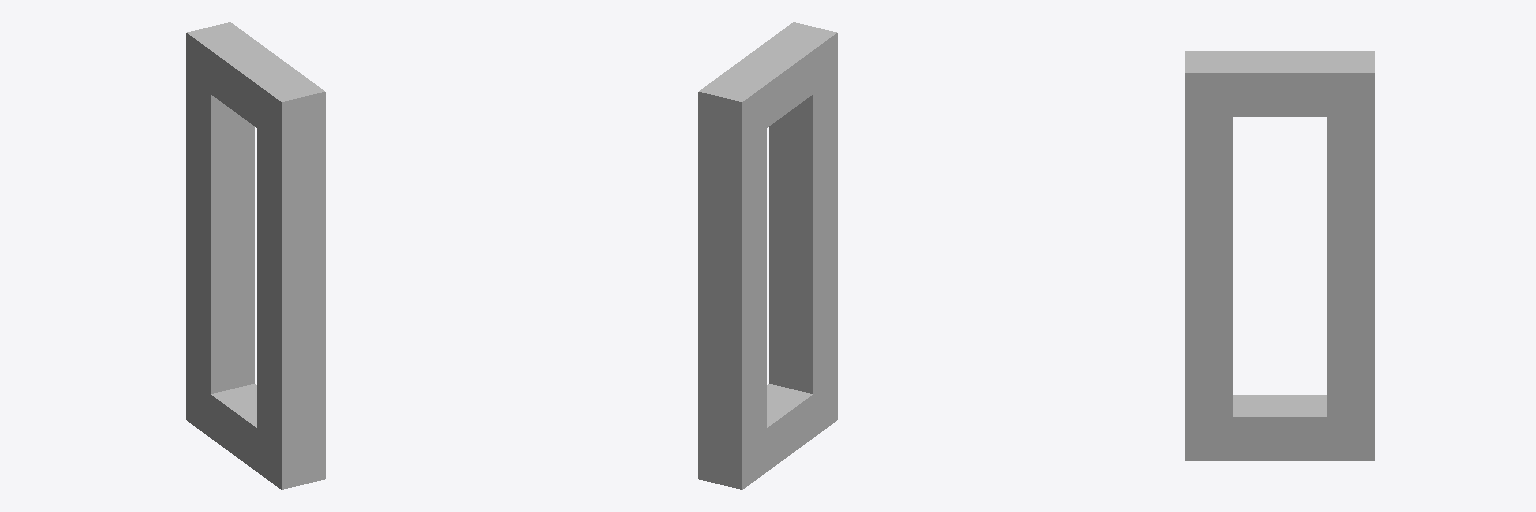
The model's file is detail_012.obj.
The picture shows the model from 3 angles: view 1: azimuth 30°, elevation 25°; view 2: azimuth 150°, elevation 25°; view 3: azimuth 270°, elevation 25°; orthographic projection.
Visible parts, largest first — view 1: detail_012; view 2: detail_012; view 3: detail_012.
Boxes of the visible parts, box(x1,y1,x2,y2) form: detail_012: box(186, 22, 325, 489); detail_012: box(698, 22, 837, 489); detail_012: box(1185, 51, 1374, 460).
Size of the model in its own units: 0.05 by 0.4219 by 0.1875.